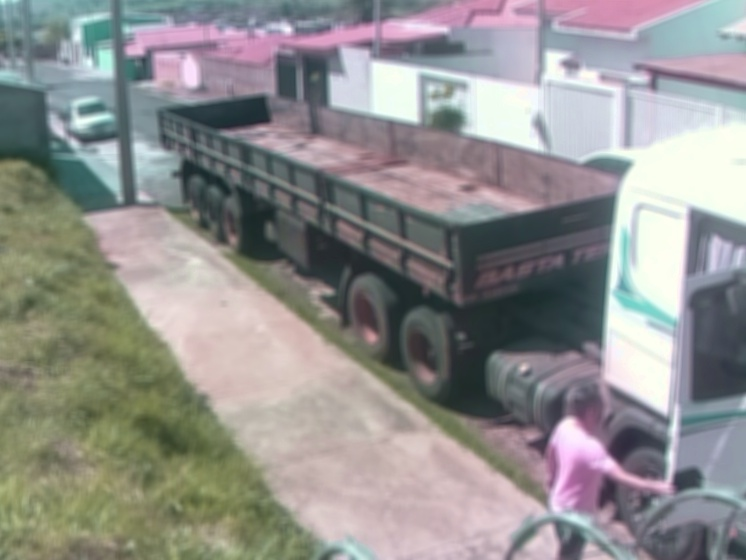person: (546, 378, 684, 560)
